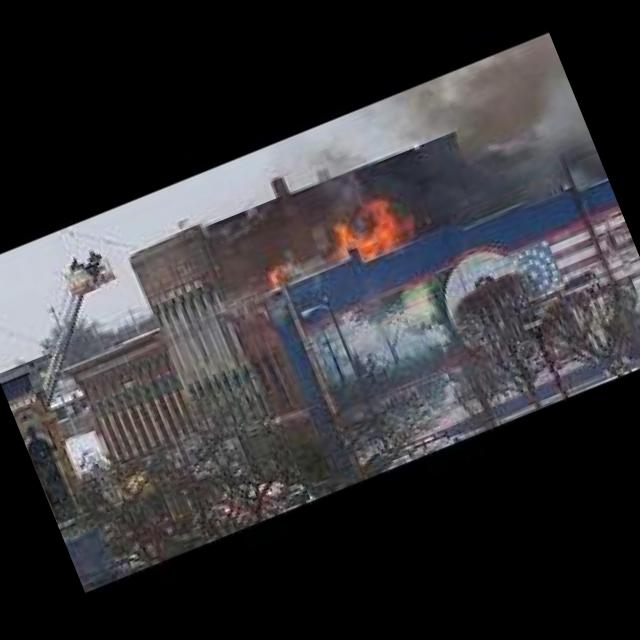fire: (251, 176, 432, 301)
smoke: (382, 36, 613, 259)
